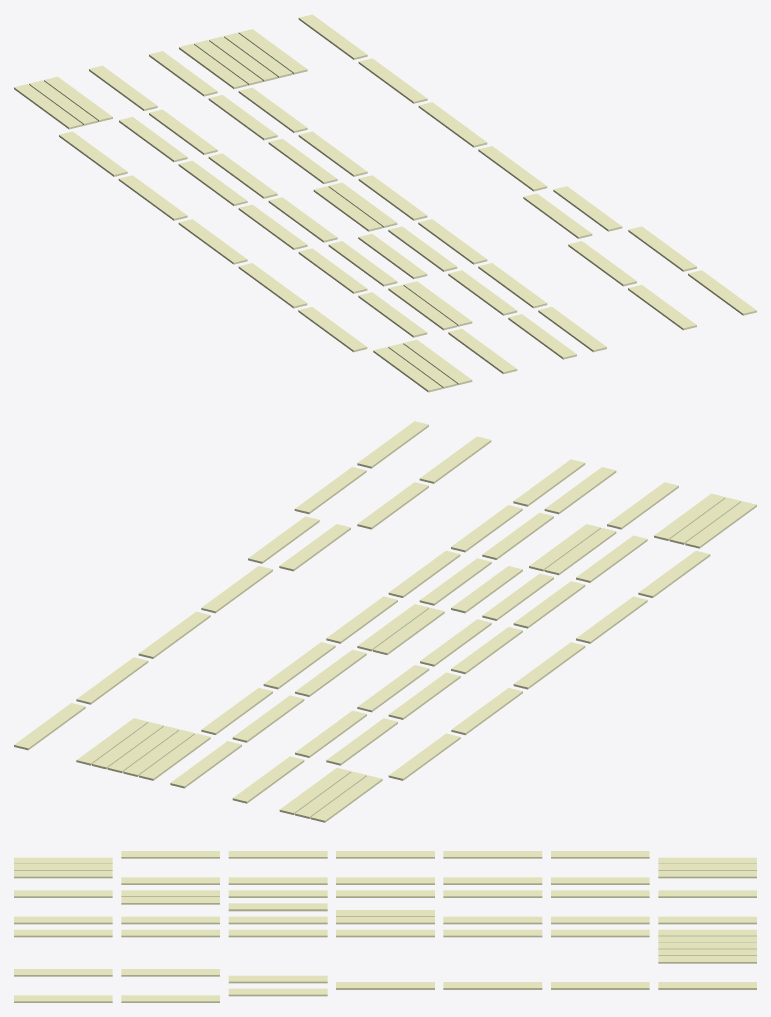
Rendered from marking_only_text_white.glb.
3 renders of one model, top to bottom at view 1: azimuth 30°, elevation 25°; view 2: azimuth 150°, elevation 25°; view 3: azimuth 270°, elevation 25°, orthographic. The views are drawn at different scales.
Parts seen in each view (by area): view 1: only_04, only_07, only_09, only_16, only_27, only_35, only_49, only_51, only_52, only_06, only_18, only_20 (+42 smaller); view 2: only_37, only_10, only_13, only_23, only_03, only_31, only_51, only_52, only_06, only_07, only_30, only_33 (+42 smaller); view 3: only_22, only_23, only_28, only_35, only_37, only_48, only_49, only_02, only_15, only_17, only_20, only_26 (+42 smaller).
Part boxes in pixels (bbox=[...]): only_04: bbox=[358, 292, 427, 337]; only_07: bbox=[178, 219, 247, 264]; only_09: bbox=[118, 175, 187, 220]; only_16: bbox=[448, 328, 517, 374]; only_27: bbox=[208, 153, 277, 198]; only_35: bbox=[418, 219, 487, 264]; only_49: bbox=[553, 186, 622, 231]; only_51: bbox=[418, 102, 487, 147]; only_52: bbox=[358, 58, 427, 103]; only_06: bbox=[298, 248, 367, 293]; only_18: bbox=[388, 285, 457, 330]; only_20: bbox=[448, 270, 517, 315]; only_37: bbox=[263, 642, 335, 689]; only_10: bbox=[388, 672, 460, 719]; only_13: bbox=[310, 775, 382, 822]; only_23: bbox=[419, 558, 491, 605]; only_03: bbox=[638, 551, 710, 597]; only_31: bbox=[232, 756, 304, 803]; only_51: bbox=[138, 611, 210, 658]; only_52: bbox=[76, 657, 148, 704]; only_06: bbox=[513, 581, 585, 628]; only_07: bbox=[513, 642, 585, 689]; only_30: bbox=[232, 695, 304, 742]; only_33: bbox=[513, 459, 585, 506]; only_22: bbox=[228, 903, 327, 911]; only_23: bbox=[228, 916, 327, 924]; only_28: bbox=[443, 916, 542, 924]; only_35: bbox=[228, 929, 327, 937]; only_37: bbox=[443, 929, 542, 937]; only_48: bbox=[228, 975, 327, 983]; only_49: bbox=[228, 988, 327, 996]; only_02: bbox=[14, 870, 112, 878]; only_15: bbox=[658, 870, 756, 878]; only_17: bbox=[14, 916, 112, 924]; only_20: bbox=[121, 916, 219, 924]; only_26: bbox=[336, 916, 434, 924].
Size of the model in its own units: 0.9367 by 0.005 by 1.96.
